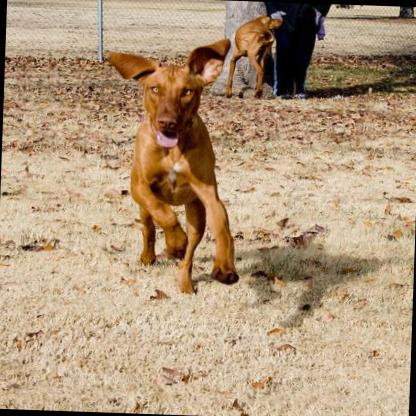vizsla: (99, 34, 245, 293), (207, 1, 323, 107)
